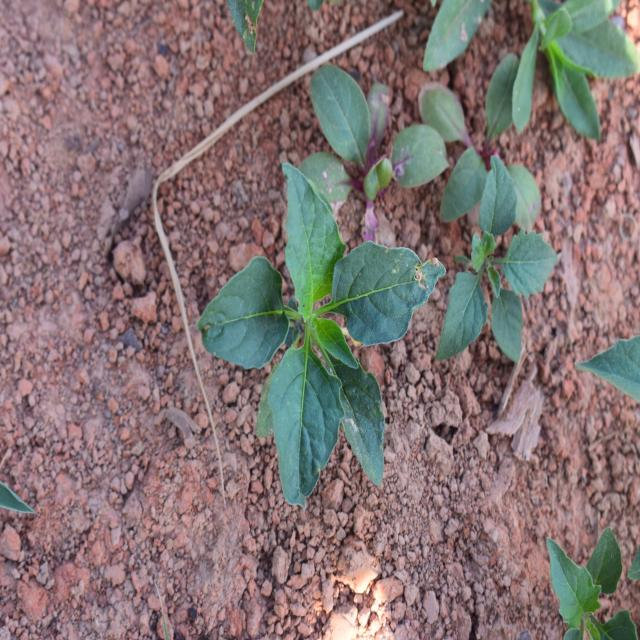Black_nightshade: (211, 184, 432, 483), (439, 170, 573, 376)
